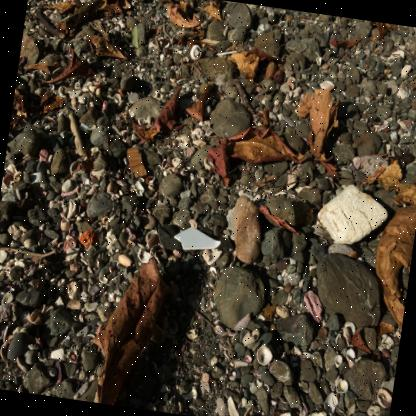Other plastic bottle: (173, 227, 220, 249), (190, 45, 201, 60), (213, 50, 236, 56)
Styrofoam piece: (316, 184, 387, 246)
